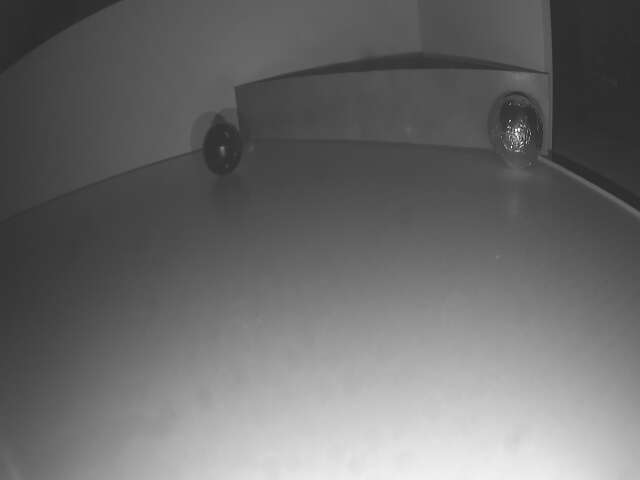Dead: (199, 124, 246, 177)
Green: (234, 72, 550, 155)
Live: (490, 96, 545, 170)
